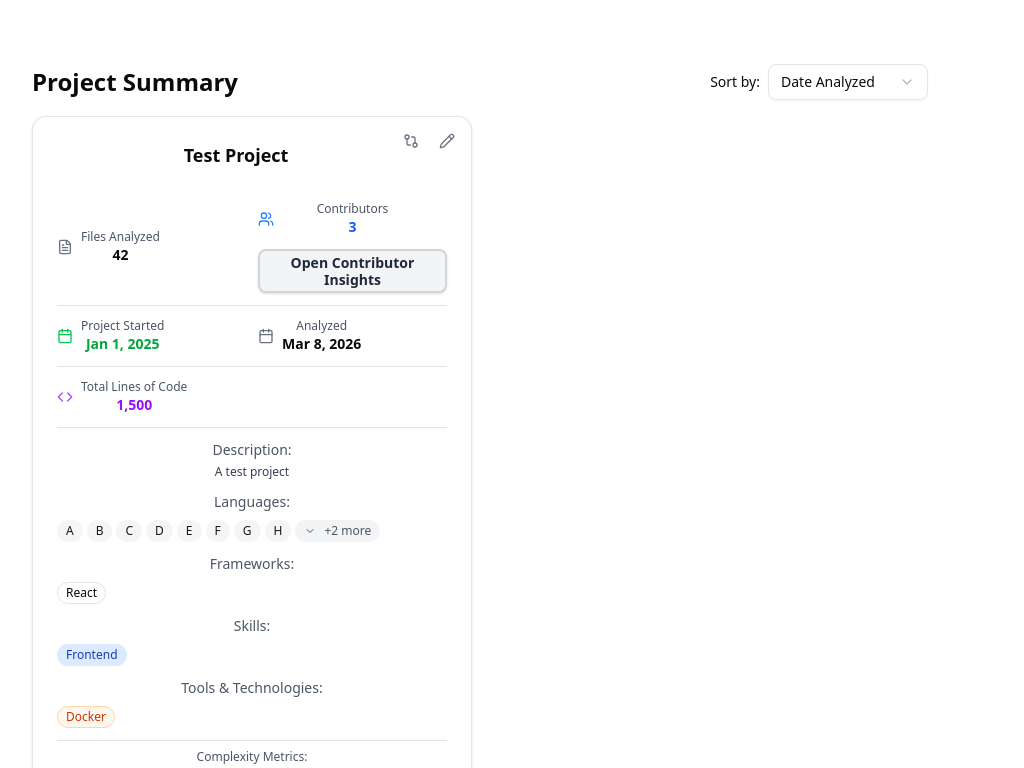
Test: ProjectSummary › expands language list when clicking +N more
Click the text "+2 more". click: coordinates (338, 531)
box: [295, 520, 380, 542]
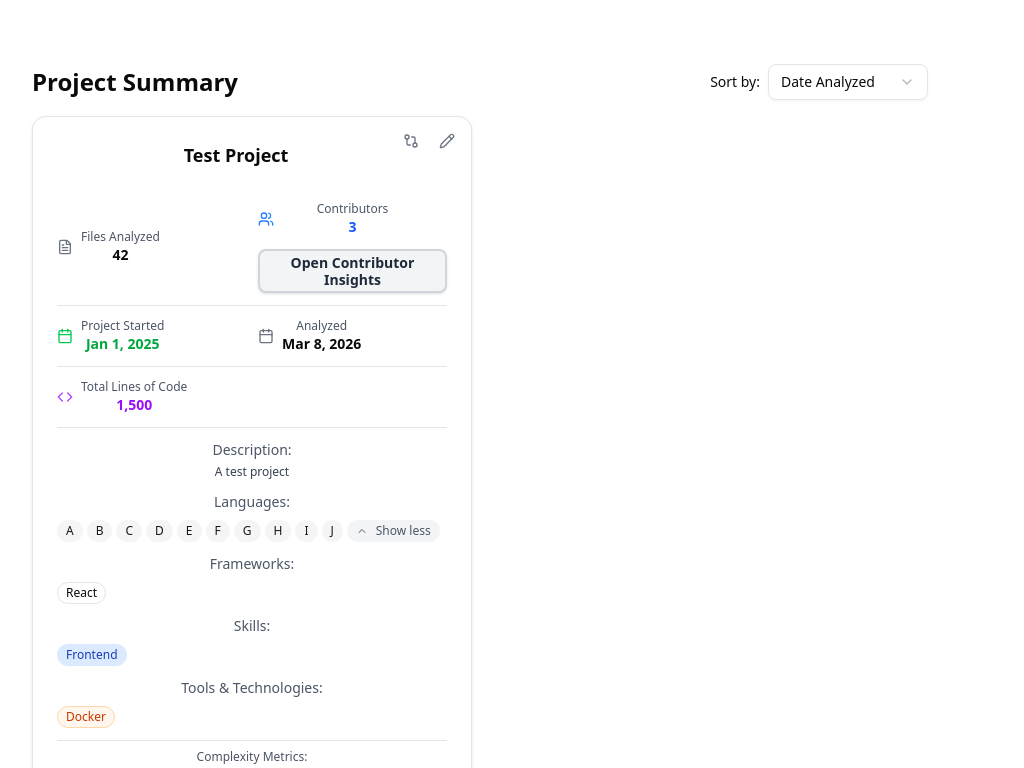
Check: the text "I" is shown, box [295, 520, 318, 542]
Check: the text "J" is shown, box [322, 520, 343, 542]
